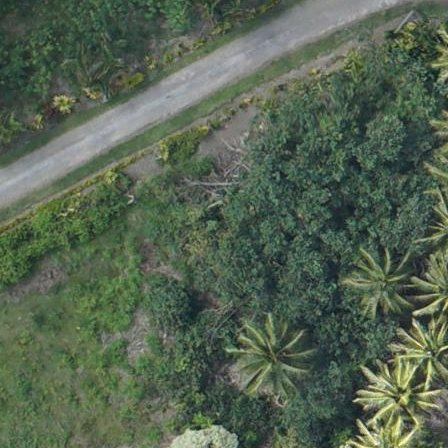palm_tree: (229, 317, 305, 399), (345, 246, 413, 319), (367, 357, 430, 424), (391, 315, 448, 384)
